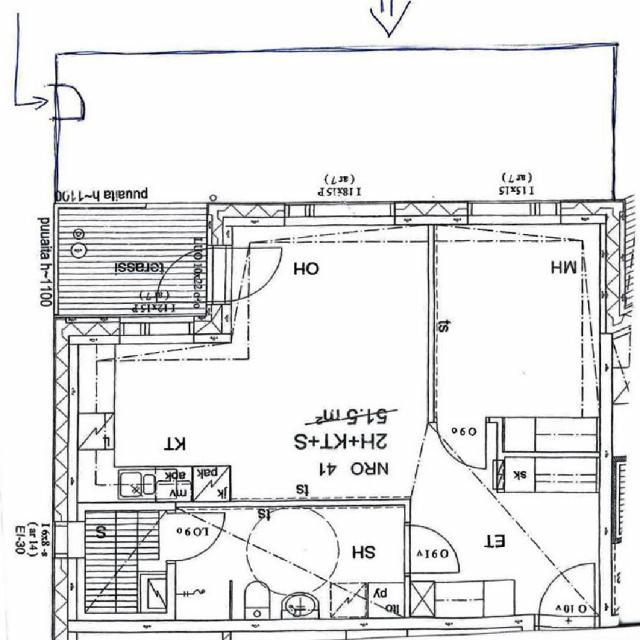door: (206, 248, 286, 300), (152, 248, 232, 300), (538, 565, 595, 630), (404, 525, 461, 573), (167, 513, 224, 560), (436, 416, 486, 469)
